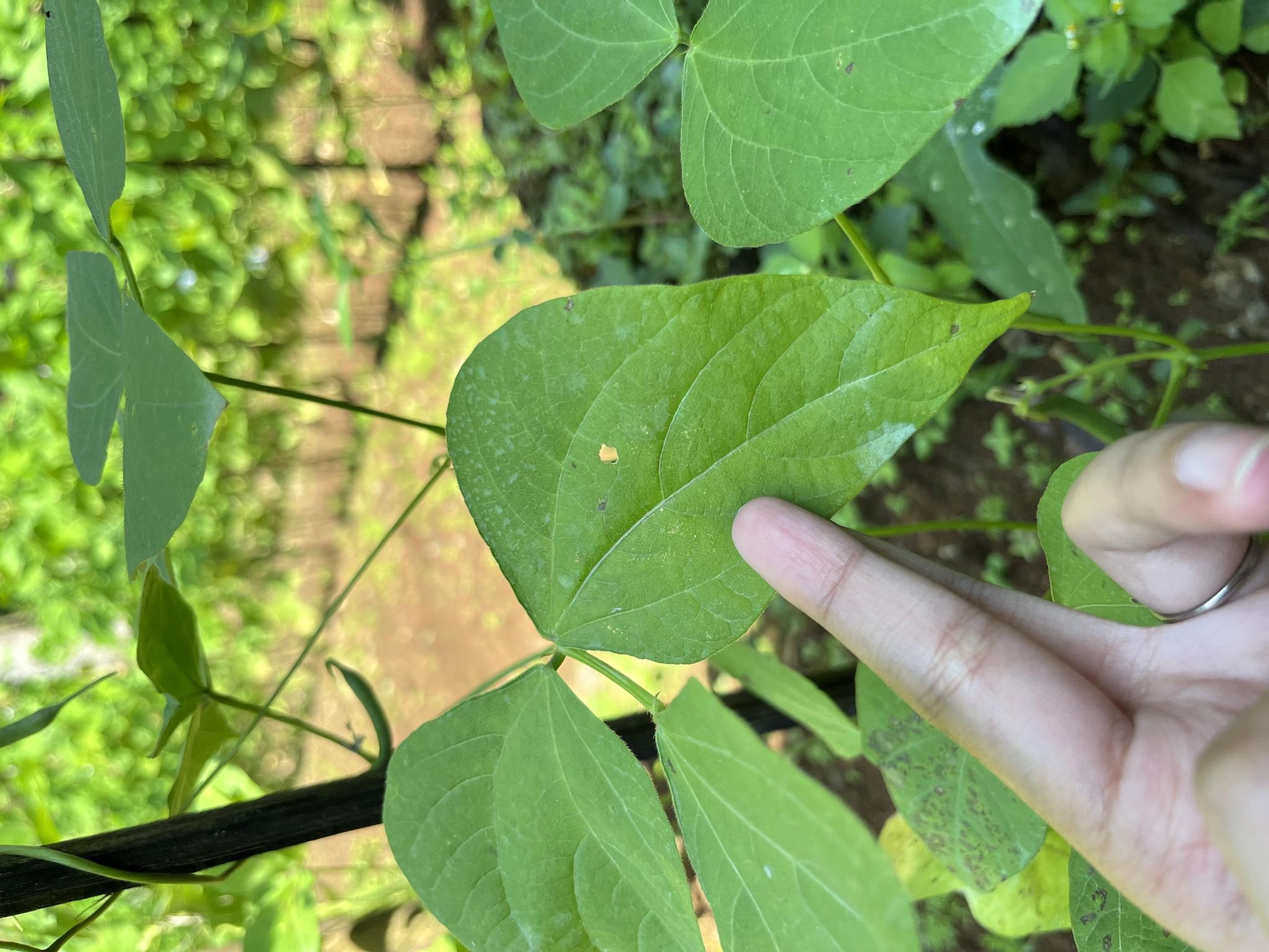mozaik: (577, 442, 640, 476)
